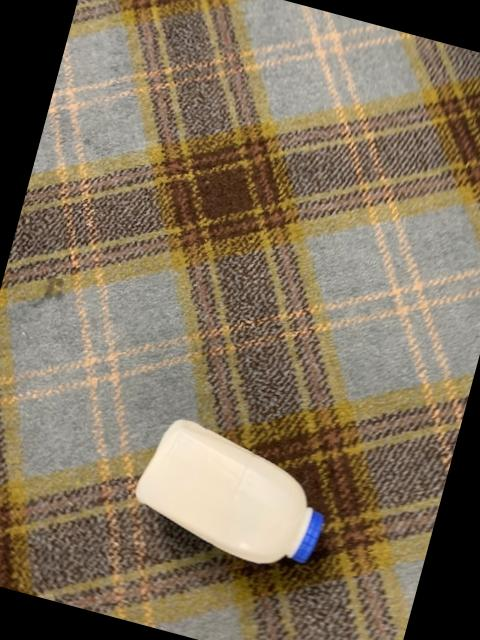plastic: (137, 419, 325, 563)
